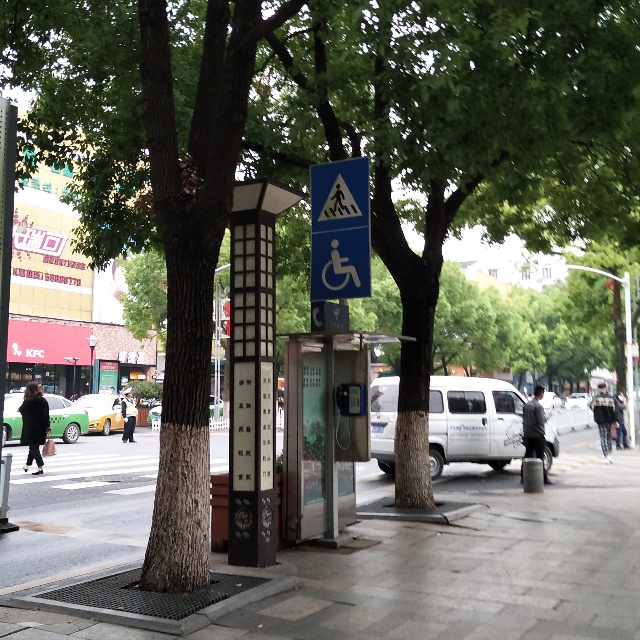crosswalk: (310, 169, 359, 222)
